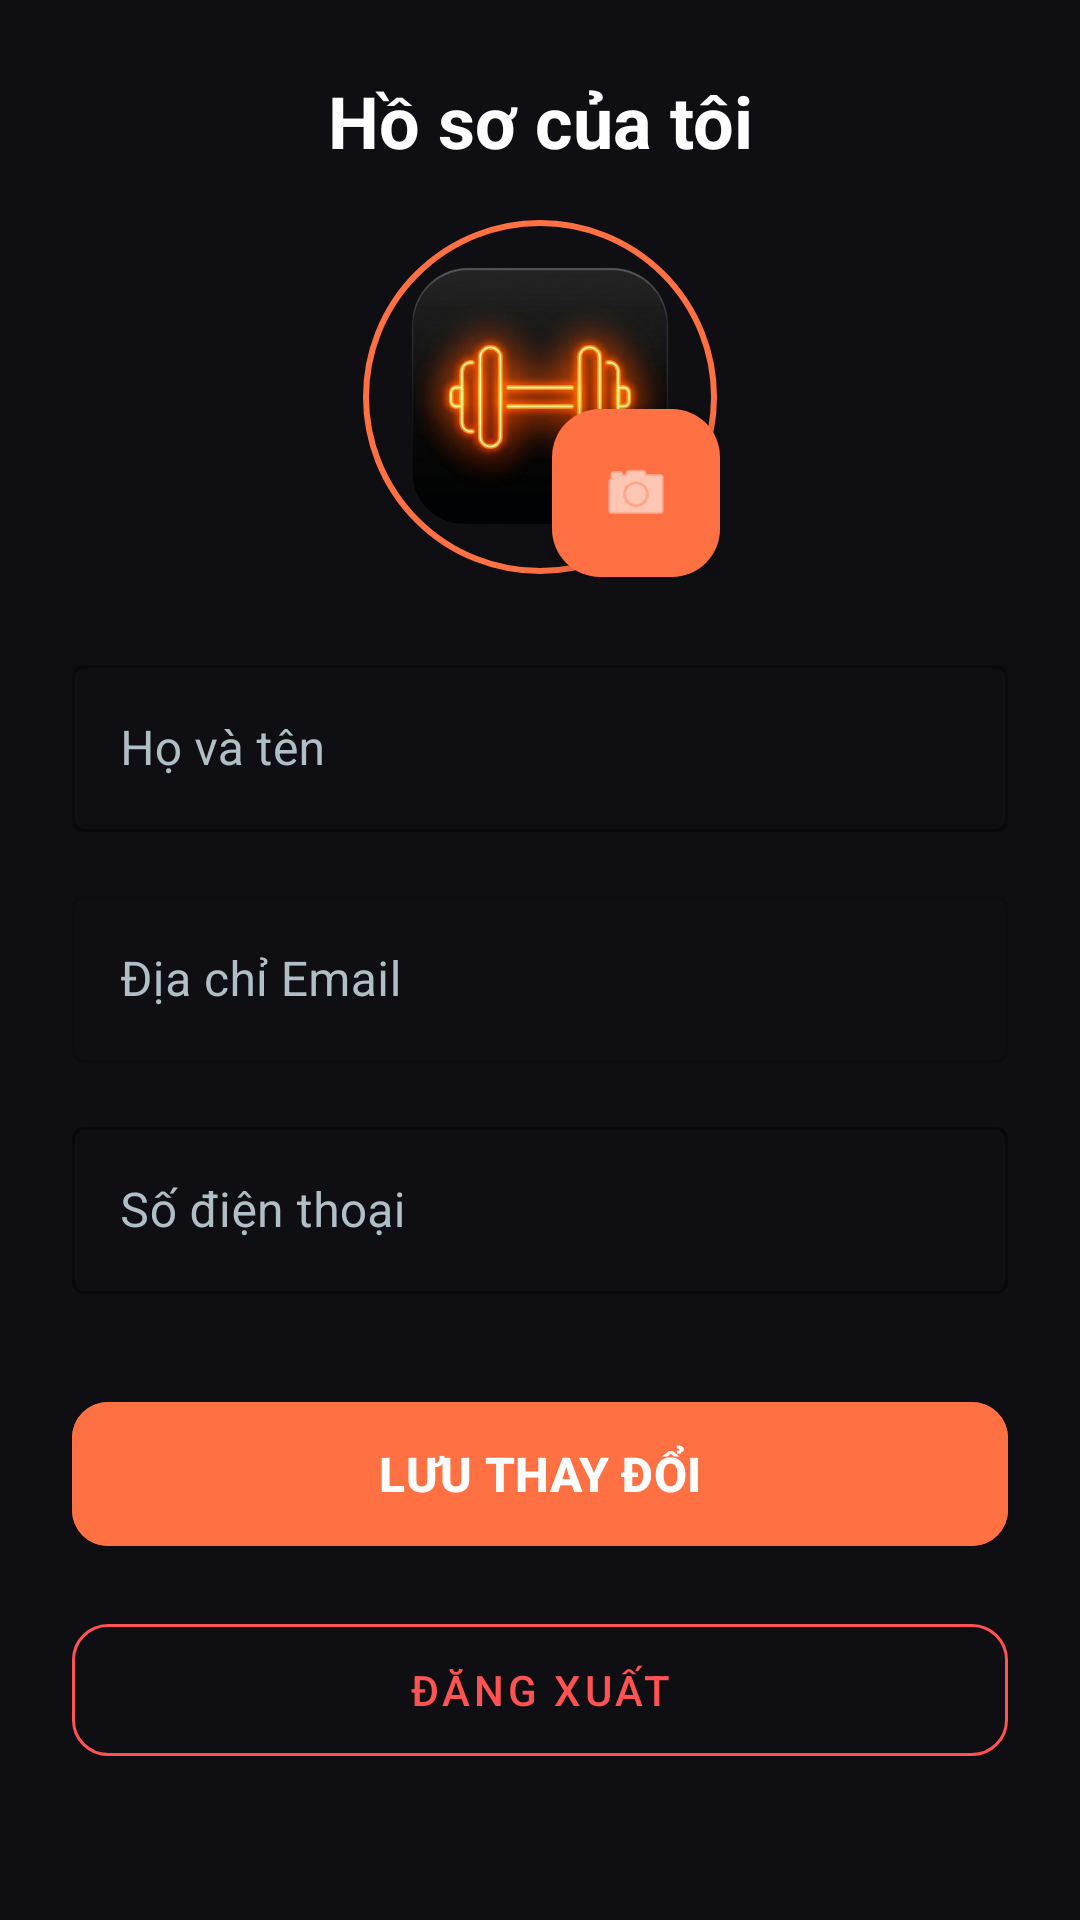

Screen size 1080px×1920px. Icon name, then its box in pixels as (x1, y1, x2, y2):
camera: (552, 409, 720, 577)
